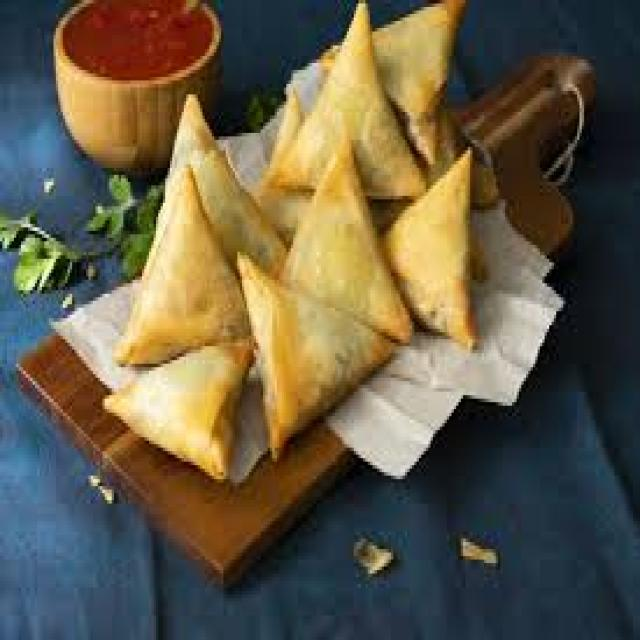SAMOSA: (234, 244, 398, 466), (254, 1, 428, 196), (278, 121, 415, 344), (114, 158, 264, 356), (96, 331, 256, 488), (172, 94, 290, 276), (379, 143, 481, 349)
